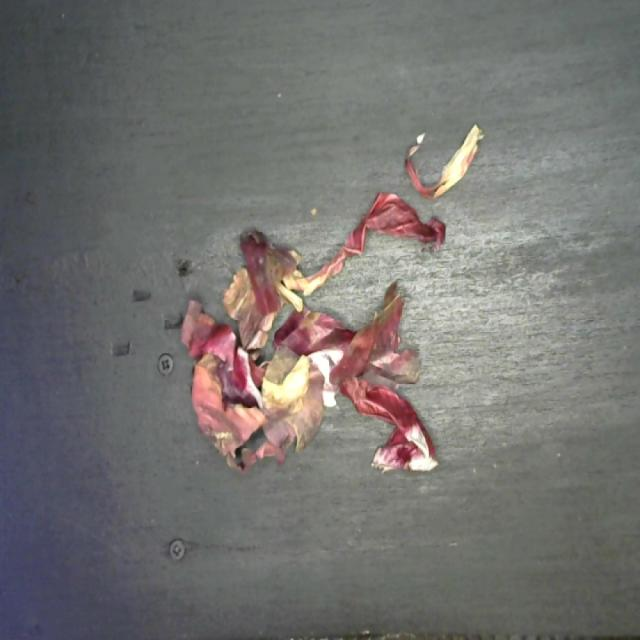biodegradable: (173, 112, 486, 490)
